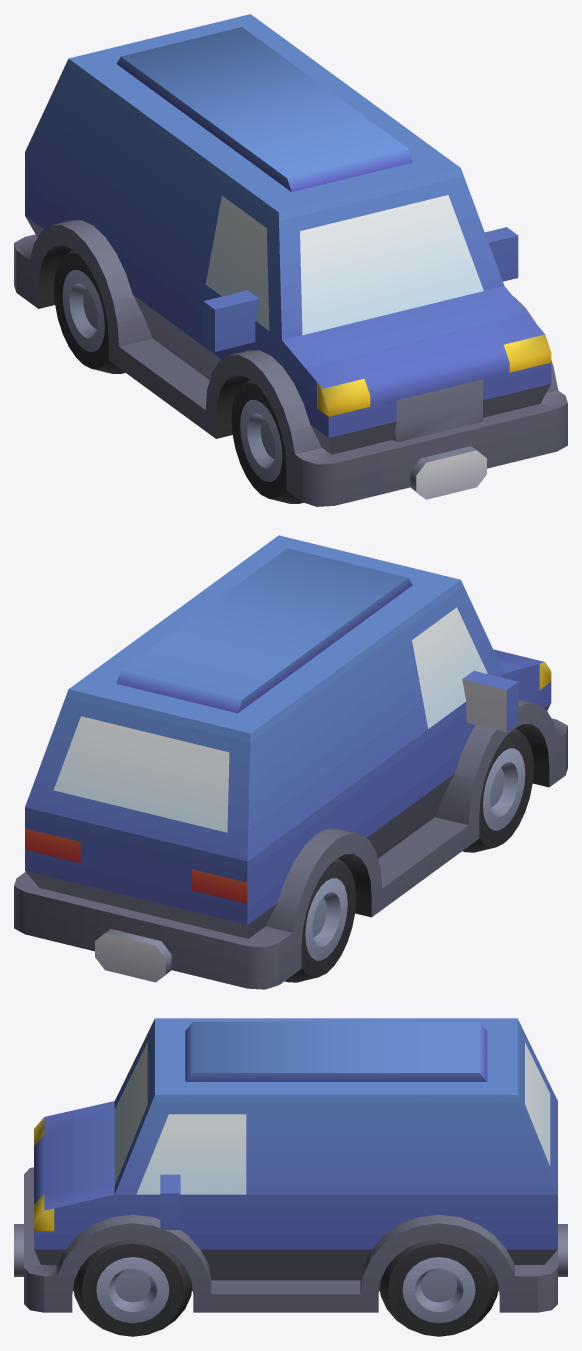
Rendered from kenney-van.glb.
The picture shows the model from 3 angles, top to bottom: view 1: azimuth 30°, elevation 25°; view 2: azimuth 150°, elevation 25°; view 3: azimuth 270°, elevation 25°; orthographic projection. The views are drawn at different scales.
Parts seen in each view (by area): view 1: wheel-front-right; view 2: wheel-front-right; view 3: wheel-front-right.
Part boxes in pixels (bbox=[...]): wheel-front-right: bbox=[14, 14, 567, 506]; wheel-front-right: bbox=[14, 535, 567, 989]; wheel-front-right: bbox=[14, 1018, 567, 1336].
Size of the model in its own units: 1.5 by 1.35 by 2.75.
Materials: 1 (1 with a texture image).
